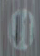Two way: (4, 8, 38, 55)
